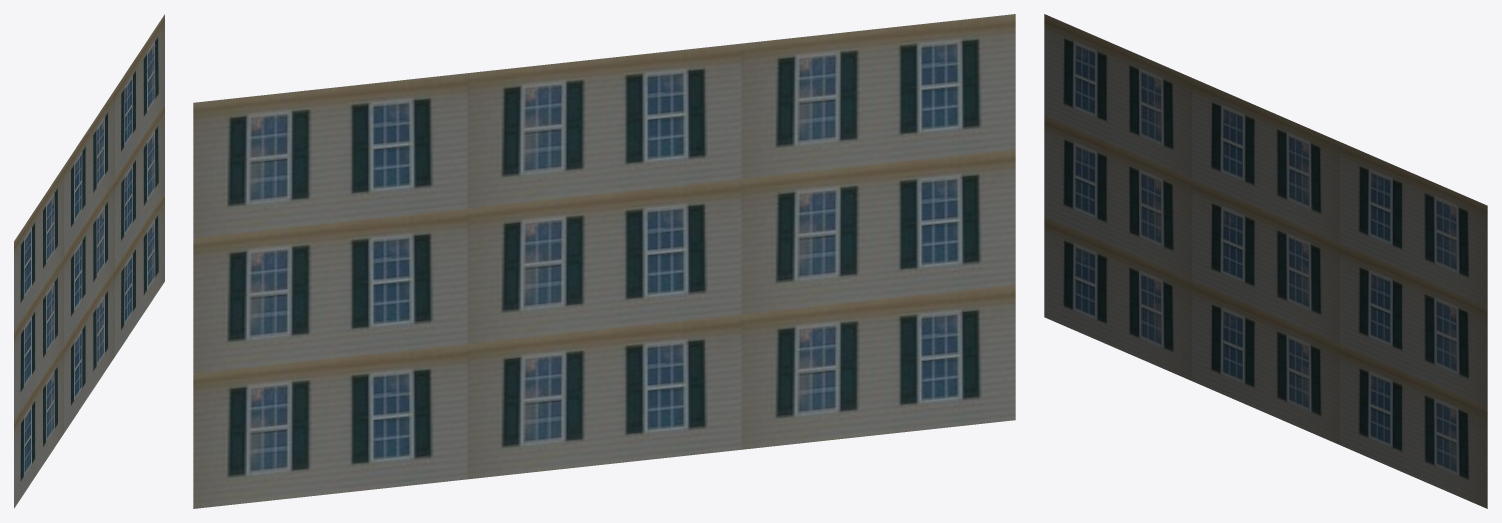
File: ResTex__3600.fbx
3 renders of one model, left to right at view 1: azimuth 30°, elevation 25°; view 2: azimuth 150°, elevation 25°; view 3: azimuth 270°, elevation 25°, orthographic. The views are drawn at different scales.
Visible parts, largest first — view 1: CityEngineMaterial_7_m; view 2: CityEngineMaterial_7_m; view 3: CityEngineMaterial_7_m.
Part boxes in pixels (x1,y1,x2,y2): CityEngineMaterial_7_m: (14,14,164,508); CityEngineMaterial_7_m: (193,14,1015,508); CityEngineMaterial_7_m: (1044,14,1487,508).
Bounding box in the file's own units: 12.19 × 9 × 11.91.
Materials: 1 (1 with a texture image).
